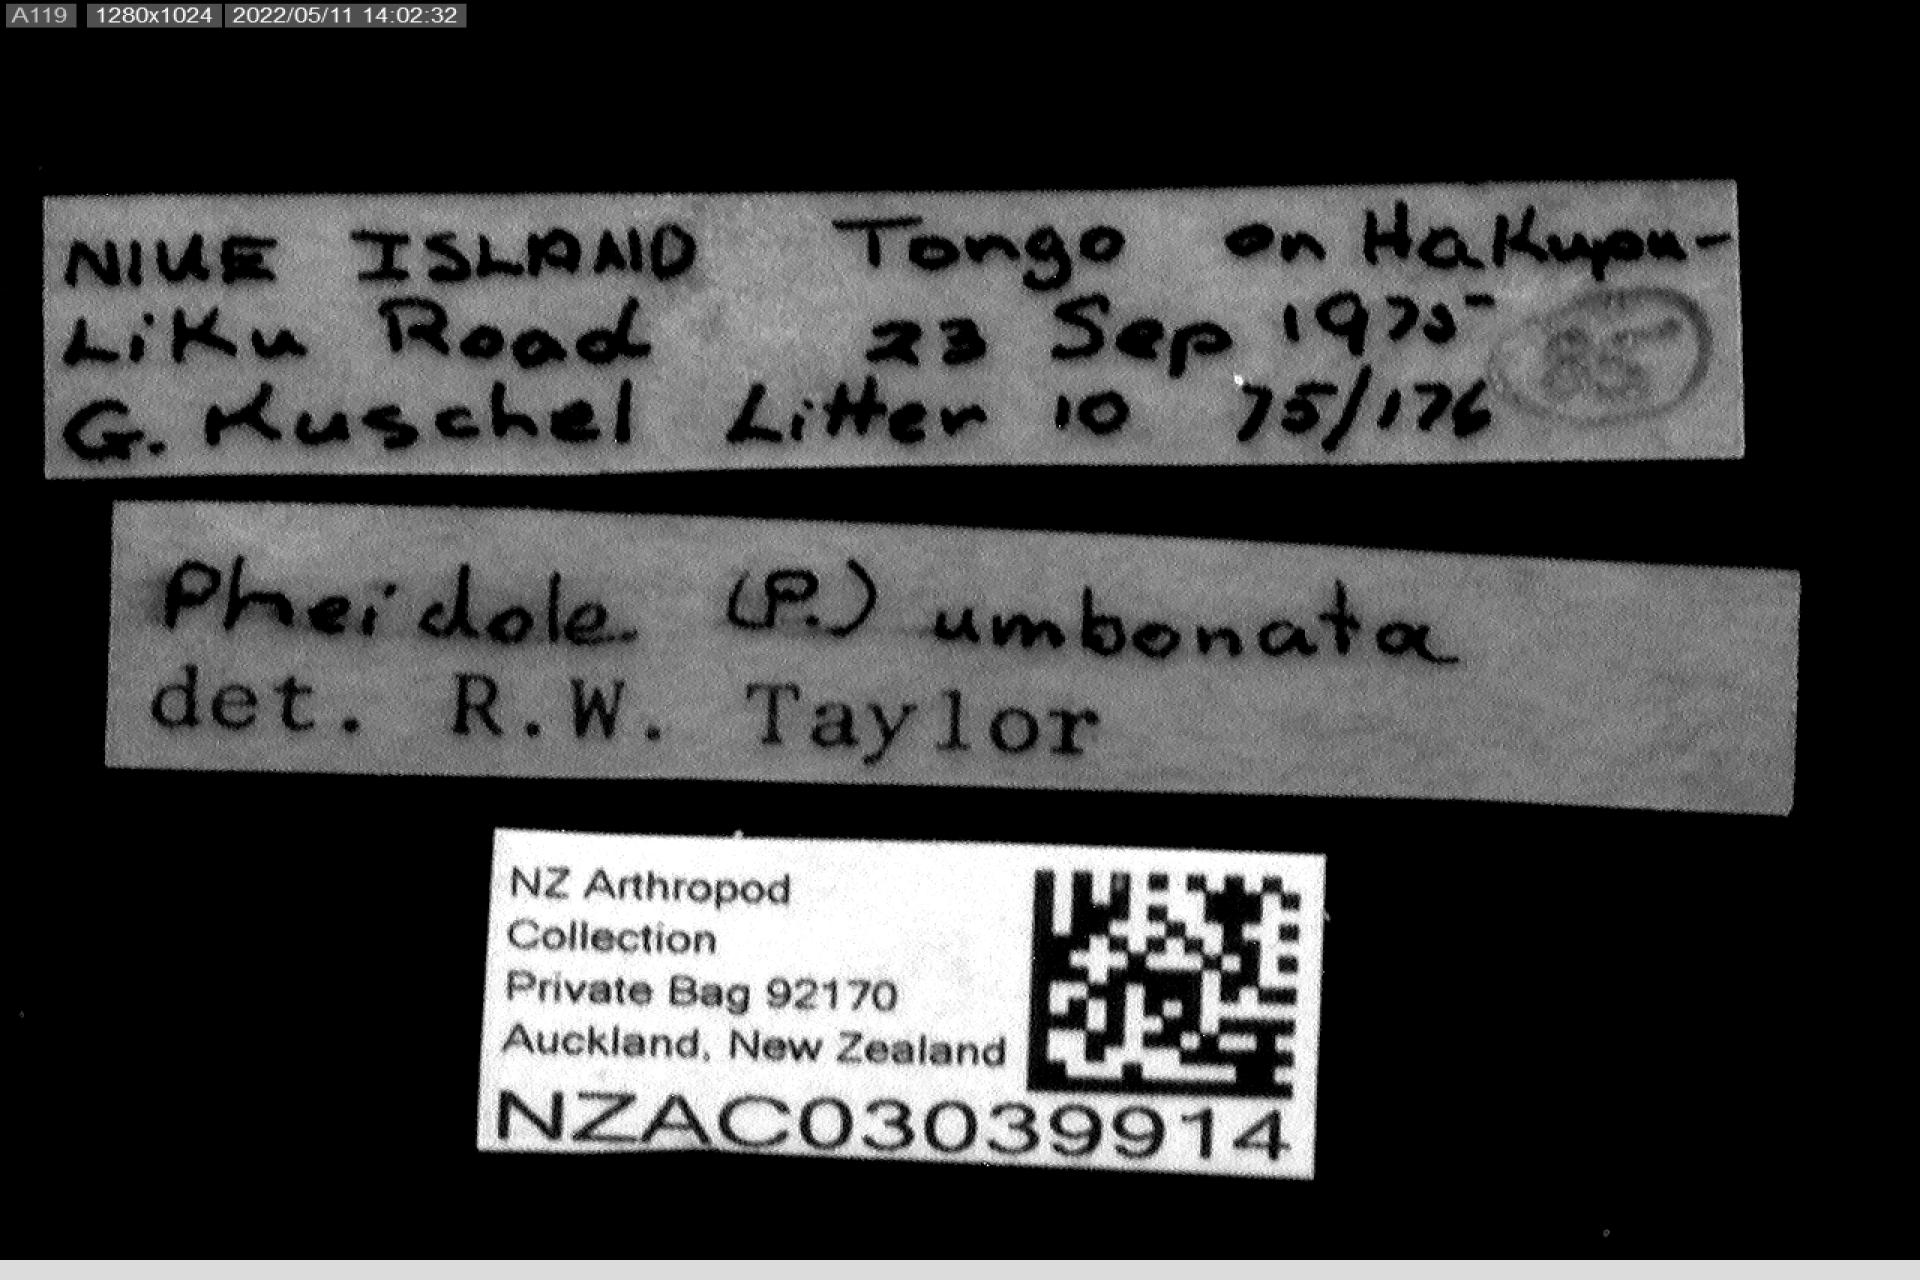hand_label: (46, 181, 1744, 479)
mixed_label: (106, 503, 1800, 813)
typed_label: (480, 831, 1324, 1179)
